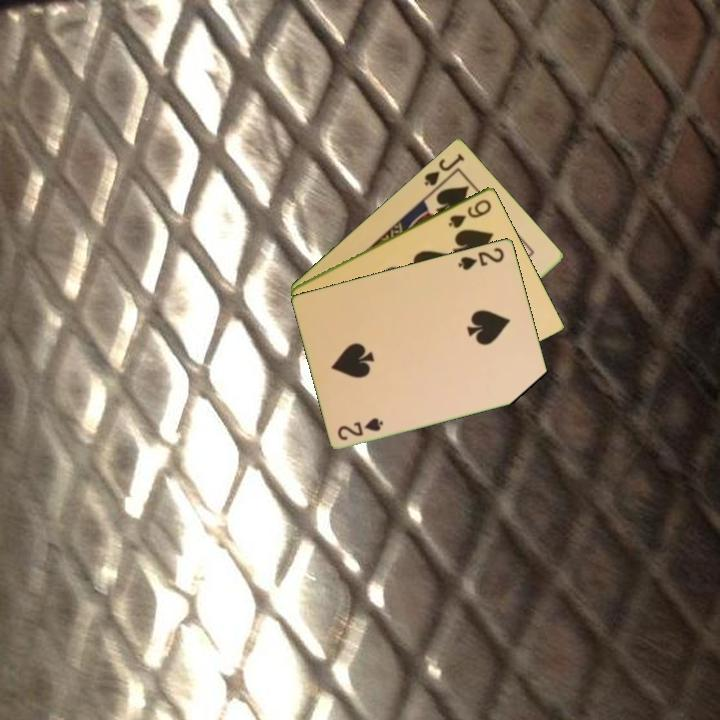2s: (455, 244, 507, 273), (334, 414, 386, 443)
9s: (445, 195, 495, 231)
Js: (420, 150, 468, 189)
